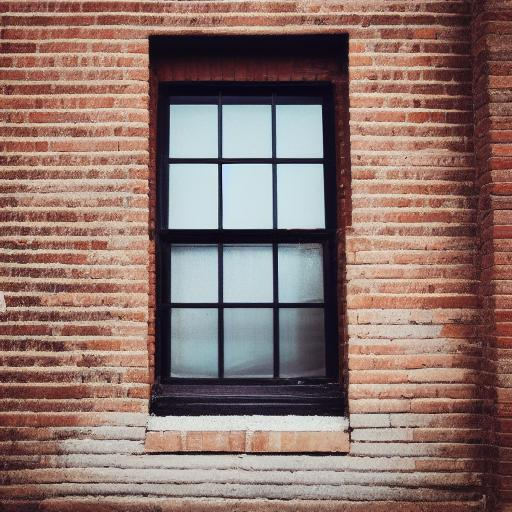Window: (140, 26, 358, 463)
